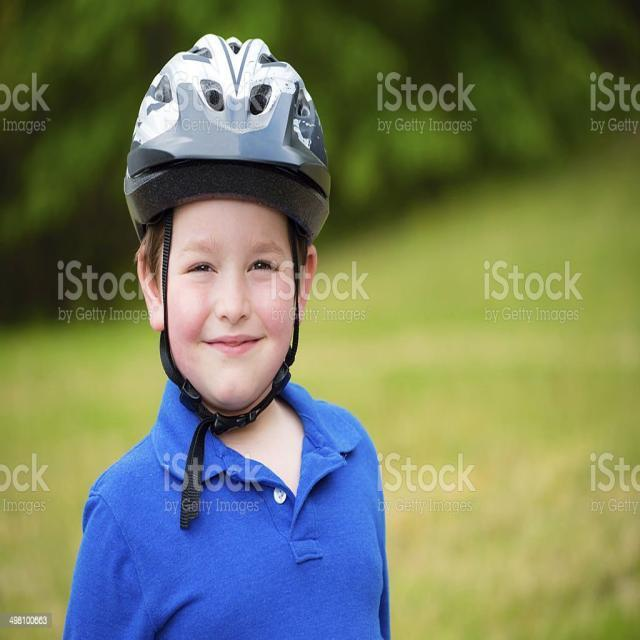with_helmet: (117, 29, 335, 421)
